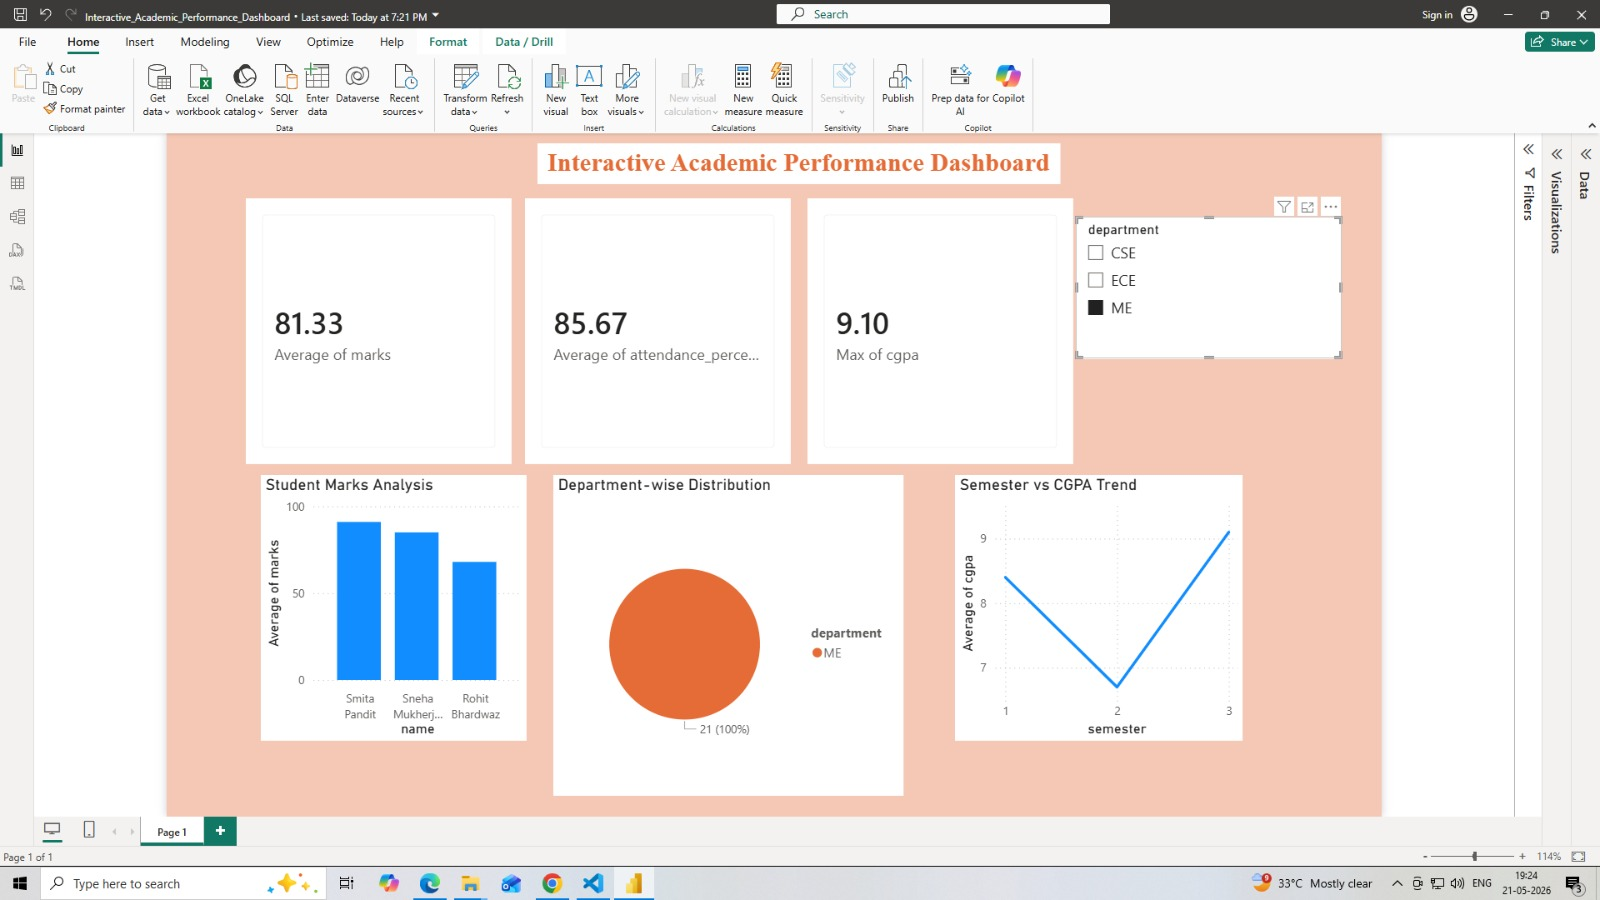

This screenshot's page, from the dashboard's own definition file:
{"tool":"powerbi","page":{"name":"Page 1","canvas":[1280,720],"ordinal":0},"visuals":[{"type":"cardVisual","fields":{"Data":["Avg(students.marks)"]},"box":[83.6,68.1,280.1,280.1],"z":0},{"type":"cardVisual","fields":{"Data":["Avg(students.attendance_percentage)"]},"box":[377.4,68.1,280.1,280.1],"z":1000},{"type":"cardVisual","fields":{"Data":["Max(students.cgpa)"]},"box":[675,68.1,280.1,280.1],"z":1001},{"type":"clusteredColumnChart","title":"Student Marks Analysis","fields":{"Category":["students.name"],"Y":["Avg(students.marks)"]},"box":[99.2,360,280,280],"z":1002},{"type":"pieChart","title":"Department-wise Distribution","fields":{"Category":["students.department"],"Y":["Sum(students.student_id)"]},"box":[407.5,359.9,368.6,337.5],"z":1003},{"type":"lineChart","title":"Semester vs CGPA Trend","fields":{"Category":["students.semester"],"Y":["Avg(students.cgpa)"]},"box":[830.6,359.9,303.5,280.1],"z":1004},{"type":"slicer","fields":{"Values":["students.department"]},"box":[958.1,87.5,280.1,149.8],"z":1005},{"type":"textbox","box":[391,10.7,550.5,42.8],"z":1006}]}

Visuals, with their boxes on the page's 1280x720 design canvas (x1, y1, x2, y2). These are canvas units, not pixel positions in the 1600x900 screenshot, which may show the page scaled, cropped or inside an application window:
cardVisual - Avg(students.marks): 84:68:364:348
cardVisual - Avg(students.attendance_percentage): 377:68:658:348
cardVisual - Max(students.cgpa): 675:68:955:348
"Student Marks Analysis" clusteredColumnChart: 99:360:379:640
"Department-wise Distribution" pieChart: 408:360:776:697
"Semester vs CGPA Trend" lineChart: 831:360:1134:640
slicer - students.department: 958:88:1238:237
textbox: 391:11:942:54
